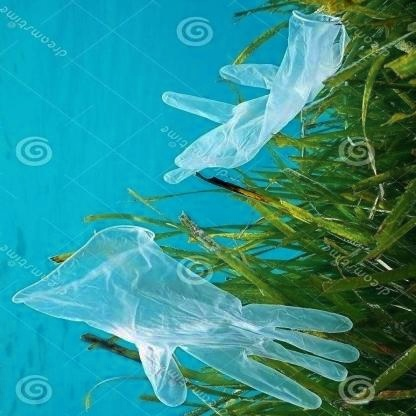glove: (7, 224, 369, 412), (151, 10, 347, 192)
